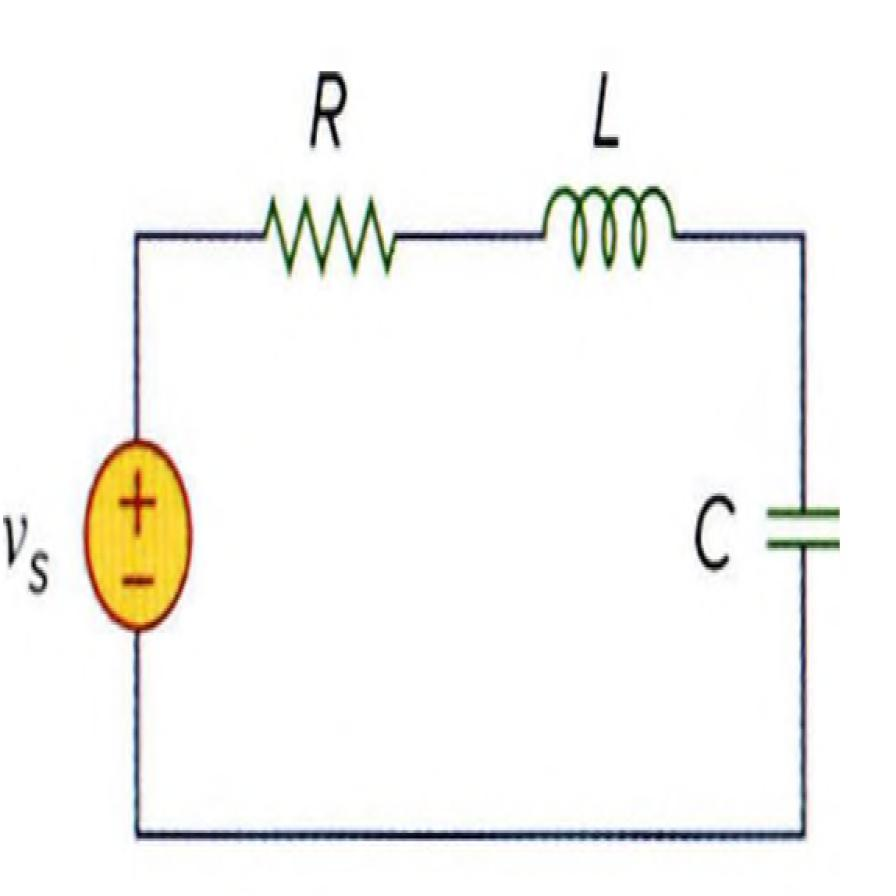C2: (759, 457, 853, 603)
L1: (524, 156, 690, 304)
R1: (248, 165, 410, 312)
V1: (75, 431, 202, 655)
